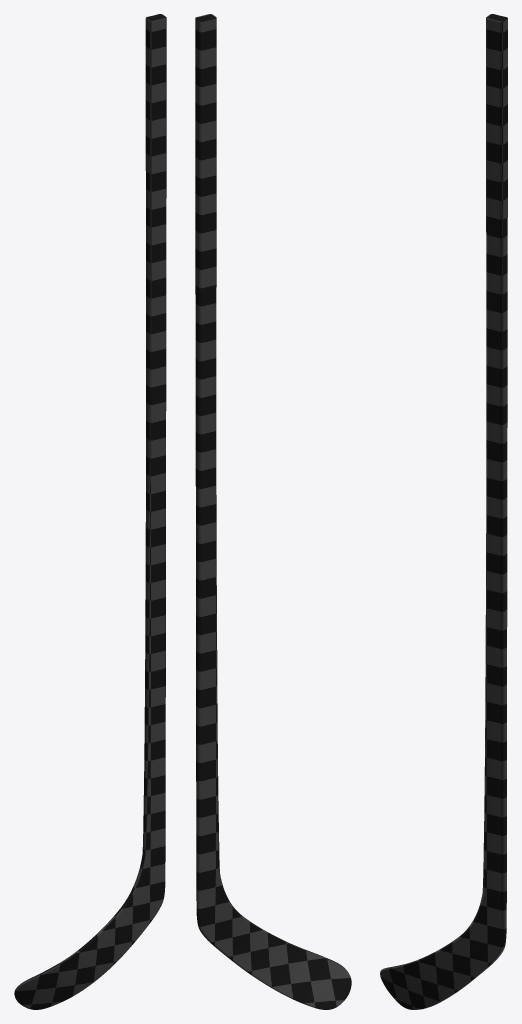
File: P10-SBT.glb
3 views of the same model, side by side, from view 1: azimuth 30°, elevation 25°; view 2: azimuth 210°, elevation 25°; view 3: azimuth 330°, elevation 25° (orthographic). The views are drawn at different scales.
Parts seen in each view (by area): view 1: geometry_0; view 2: geometry_0; view 3: geometry_0.
Part boxes in pixels (x1,y1,x2,y2): geometry_0: (14,14,166,1009); geometry_0: (195,14,351,1009); geometry_0: (380,14,507,1009).
Bounding box in the file's own units: 237 × 1650 × 64.88.
1 material, 1 textured.
